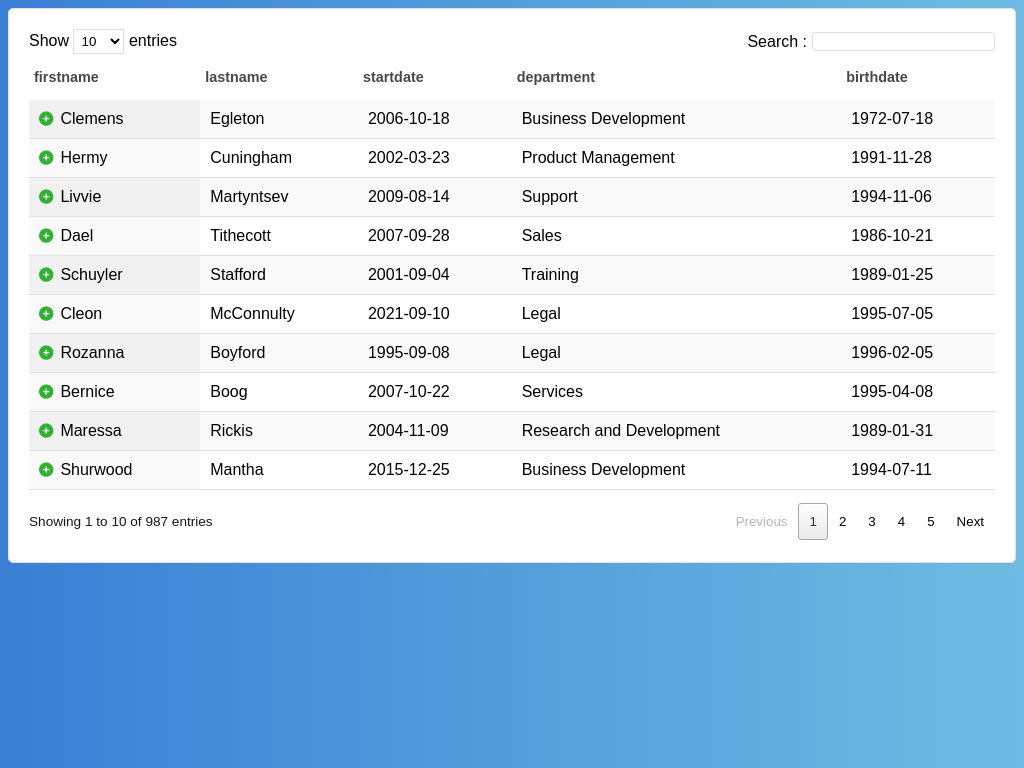
Test: When datatable is filled with json data › Then, click on previous button should change page
The image size is (1024, 768).
Click the button with test id "datatable-pagination-next" at (970, 521), box top-left (946, 503), bottom-right (995, 540)
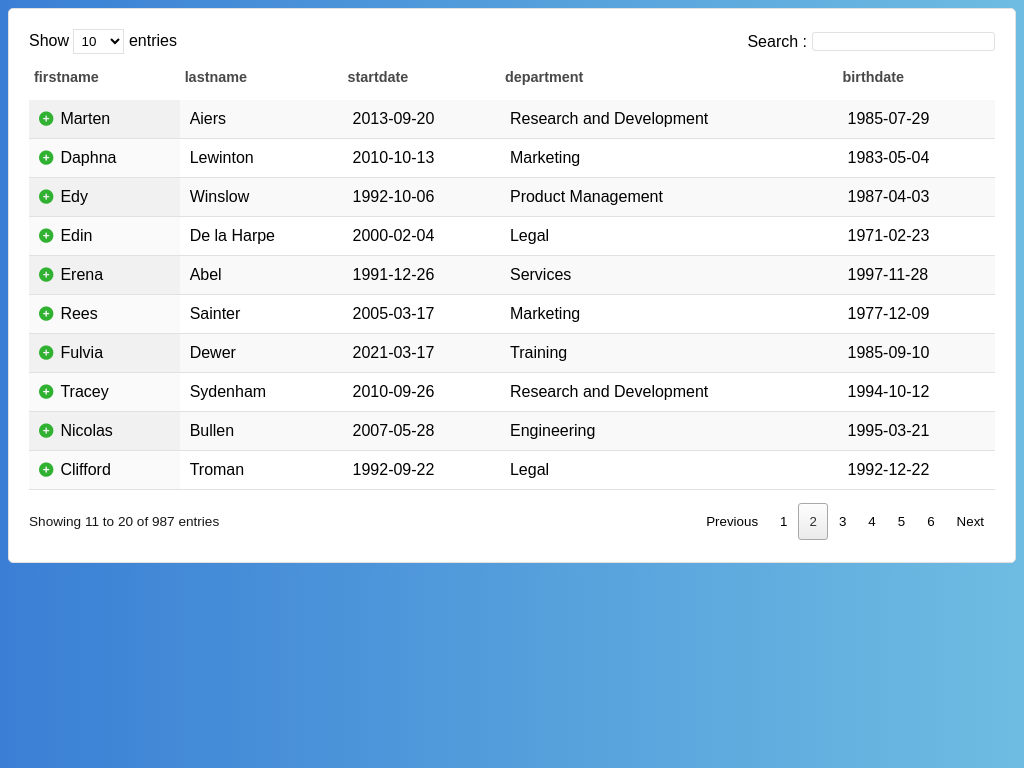
Click the button with test id "datatable-pagination-prev" at (732, 521), box top-left (695, 503), bottom-right (769, 540)
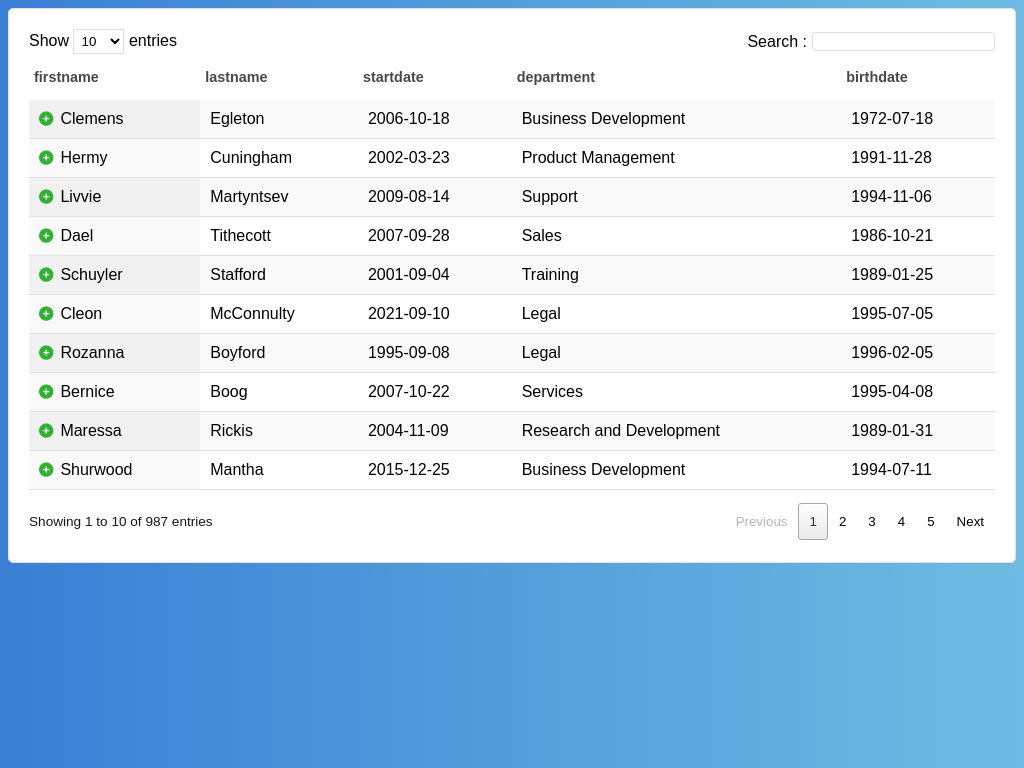
Expected: the text "Clemens" is shown, top-left (29, 100), bottom-right (200, 138)
